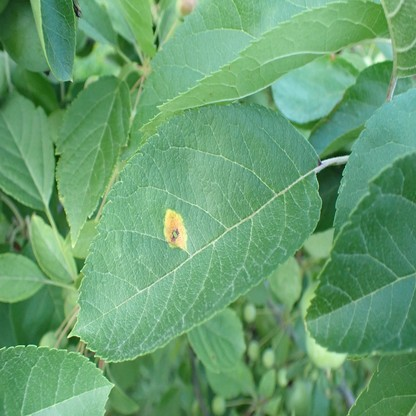rust: (165, 208, 186, 249)
